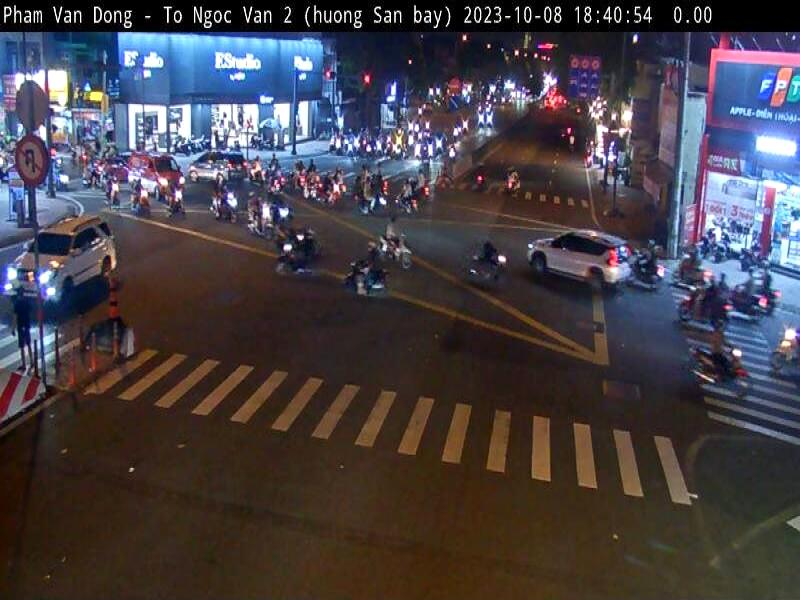car: (0, 216, 117, 310), (528, 228, 632, 293)
